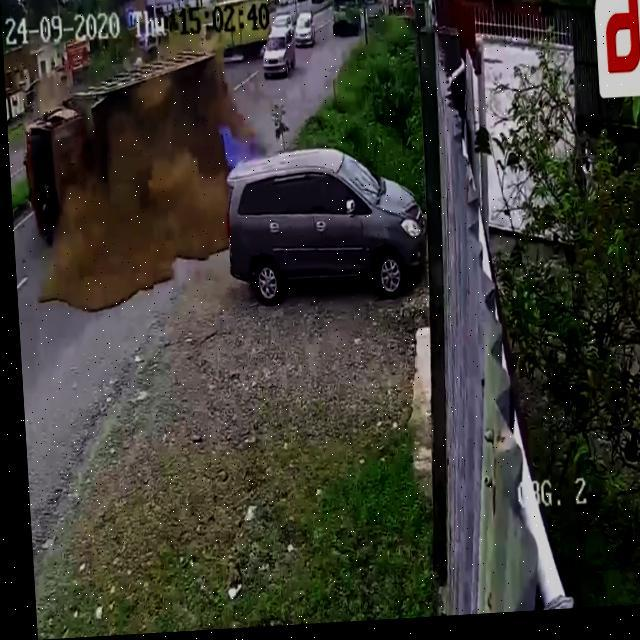multiple_accident: (28, 40, 258, 317), (208, 132, 438, 322)
